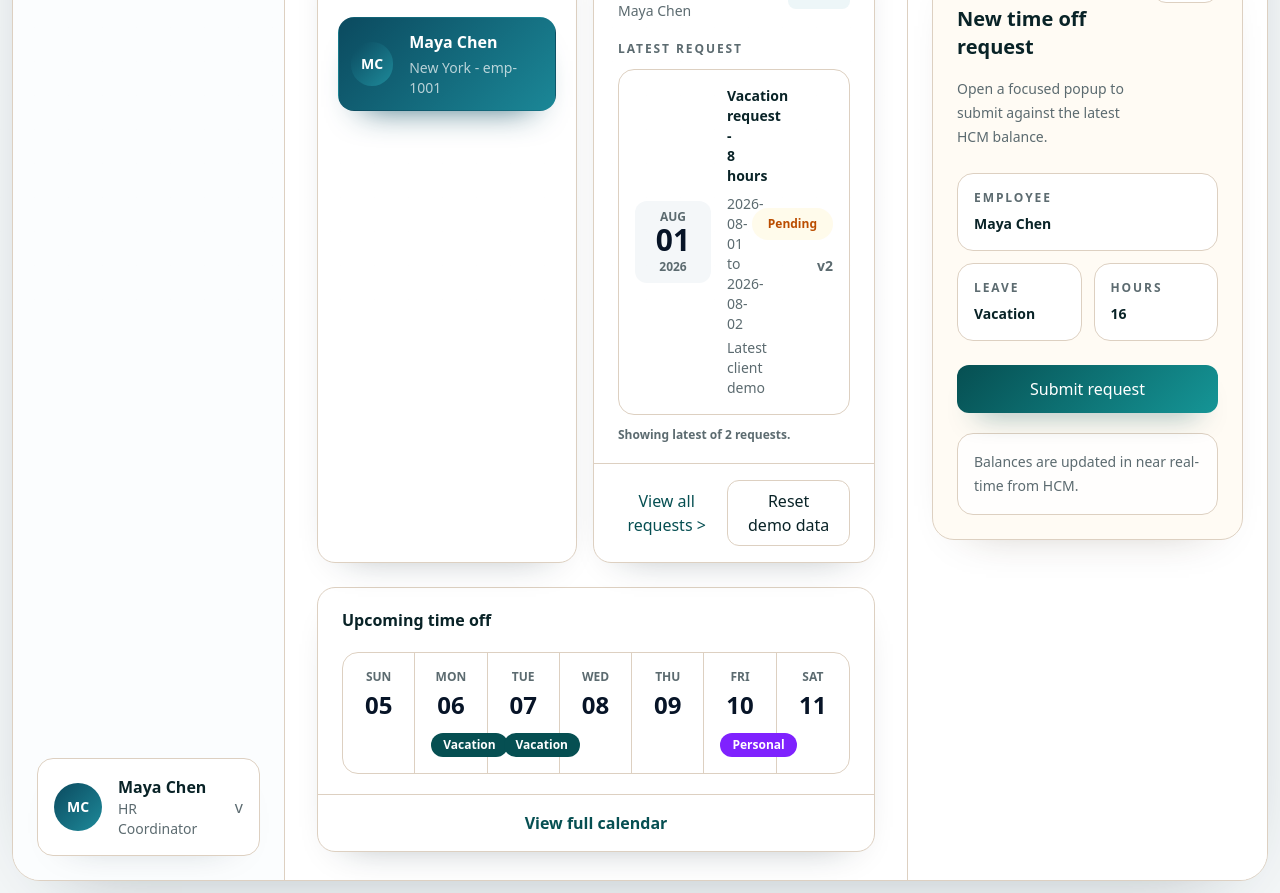
Scenario: EmployeeView › shows only the latest request and opens all requests in a dialog
(page scrolled)
Expected: the text "Latest client demo" is shown, left=727, top=338, right=736, bottom=398
Expected: the text "School break coverage" is not shown
Click the button "View all requests >" at coordinates (667, 513), box left=618, top=489, right=715, bottom=537
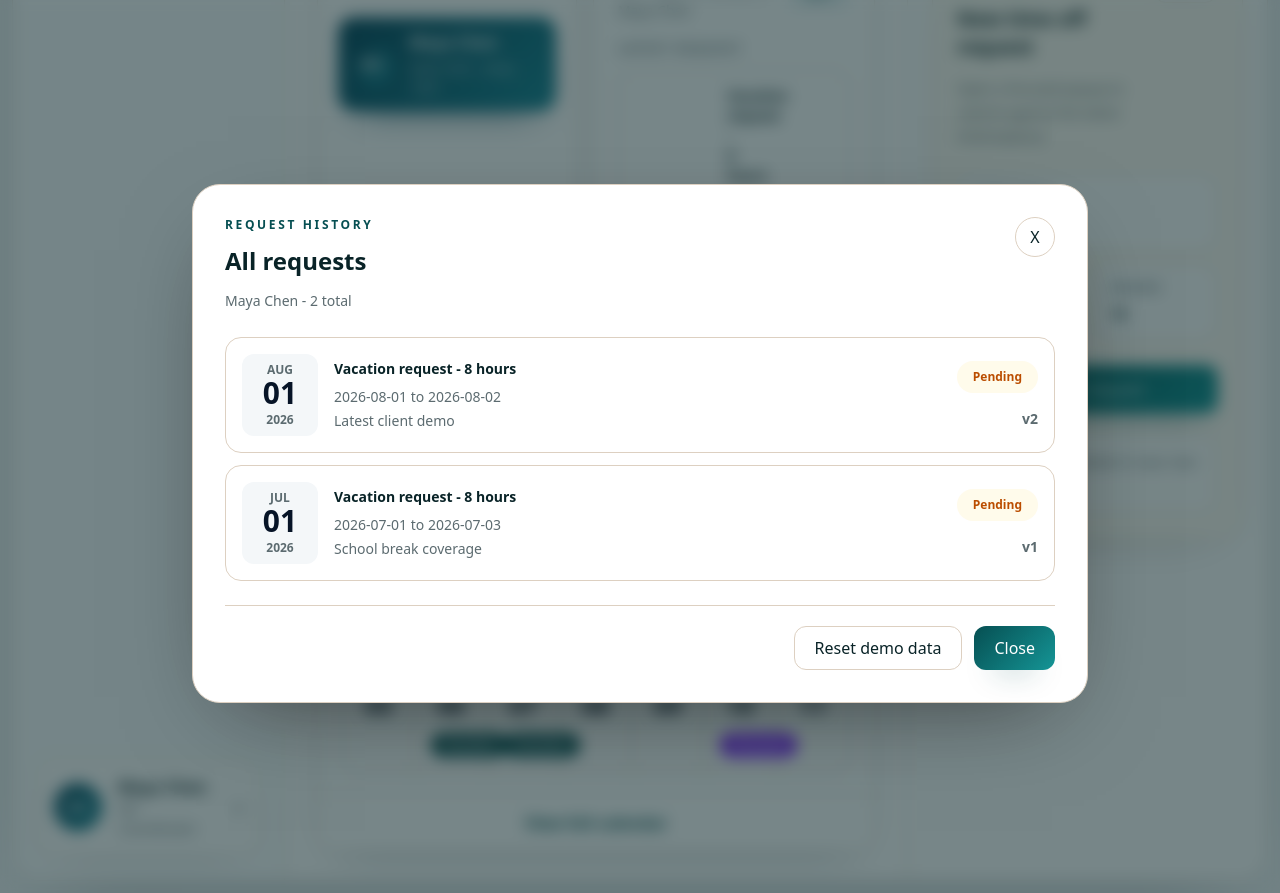
Result: the text "Latest client demo" is shown at left=334, top=410, right=455, bottom=430
Result: the text "School break coverage" is shown at left=334, top=538, right=482, bottom=558
